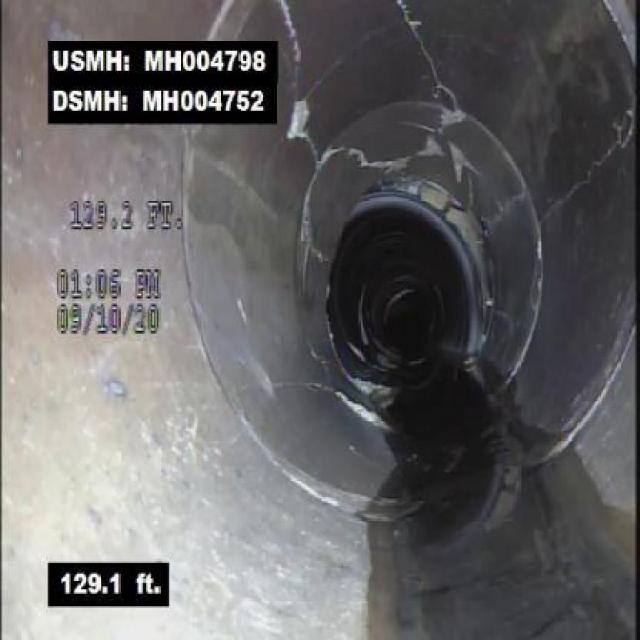Crack: (546, 106, 639, 217), (377, 6, 471, 105), (278, 6, 324, 140)
